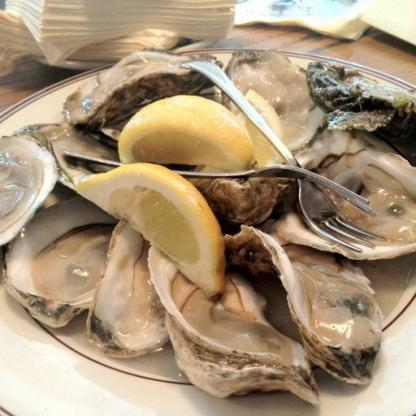lemon: (80, 163, 228, 303), (118, 97, 254, 169)
oyster: (144, 223, 318, 404), (266, 122, 415, 261)
